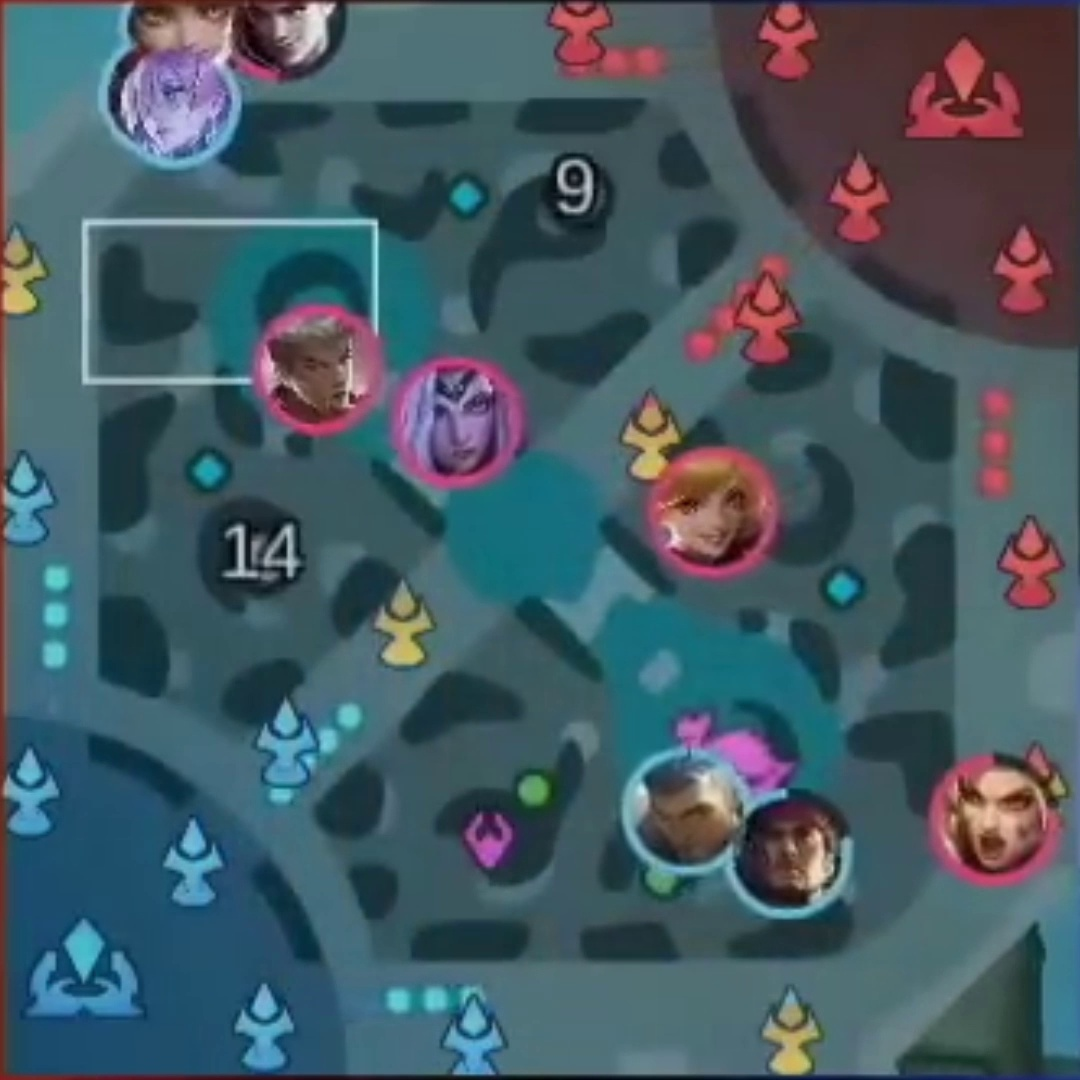Chou: (272, 325, 362, 409)
Claude: (241, 3, 327, 61)
Fanny: (670, 461, 756, 558)
Fredrinn: (643, 764, 734, 857)
Lapu-Lapu: (755, 806, 832, 902)
Masha: (952, 772, 1037, 870)
Novaria: (133, 66, 221, 158)
Valentina: (409, 372, 501, 467)
Wanwan: (142, 1, 233, 61)
